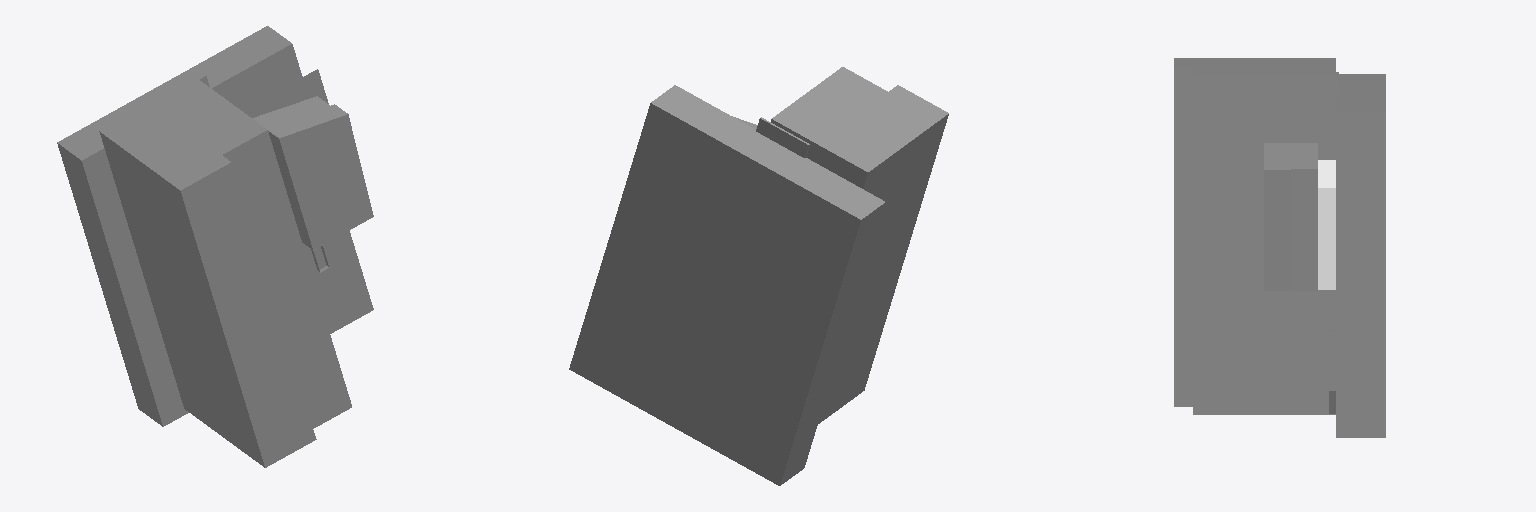
The model's file is Opt3-2.obj.
The picture shows the model from 3 angles: view 1: azimuth 30°, elevation 25°; view 2: azimuth 150°, elevation 25°; view 3: azimuth 270°, elevation 25°; orthographic projection.
Bounding box in the file's own units: 246 × 283 × 154.